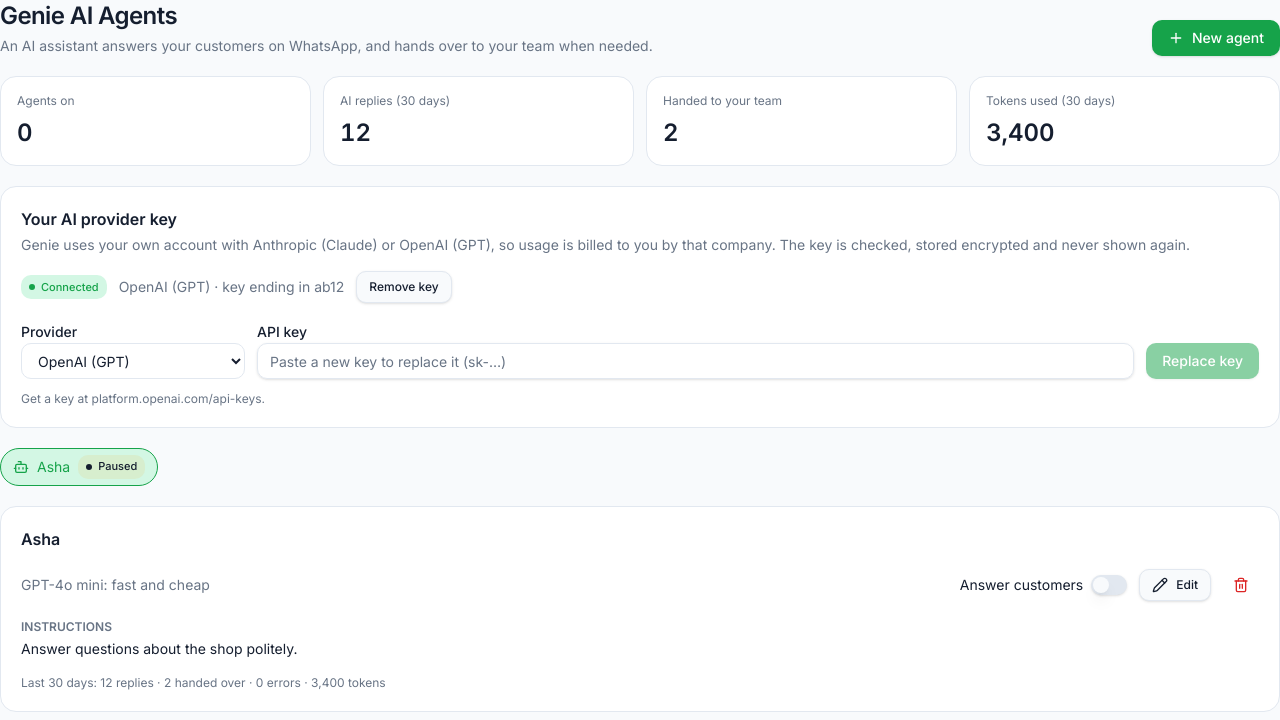
Test: AI agents › offers the connected provider's models when editing an agent
Click the button "Edit": (1175, 585) 1139,569 -> 1211,601
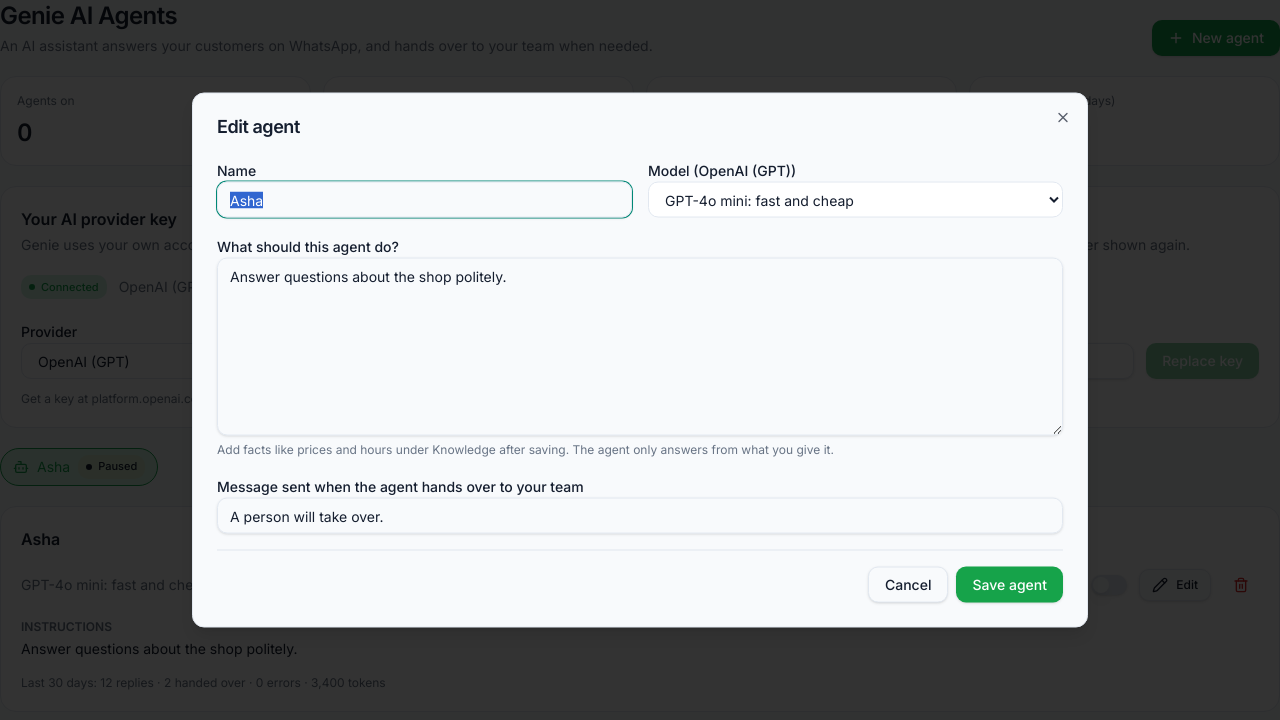
Select "Other model (type its name)" in the dropdown labelled "Model (OpenAI (GPT))": (856, 200) 648,182 -> 1063,218
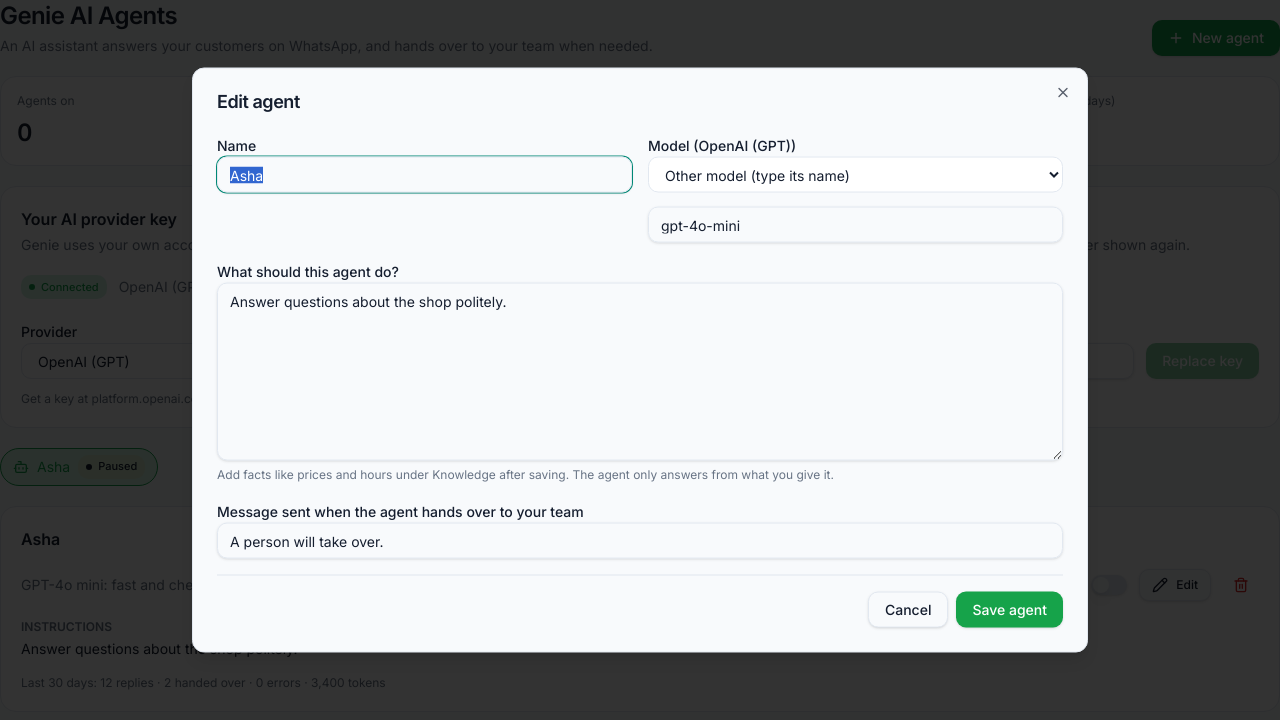
Check: the field named "Model name" is shown, box 648,206 -> 1063,242
